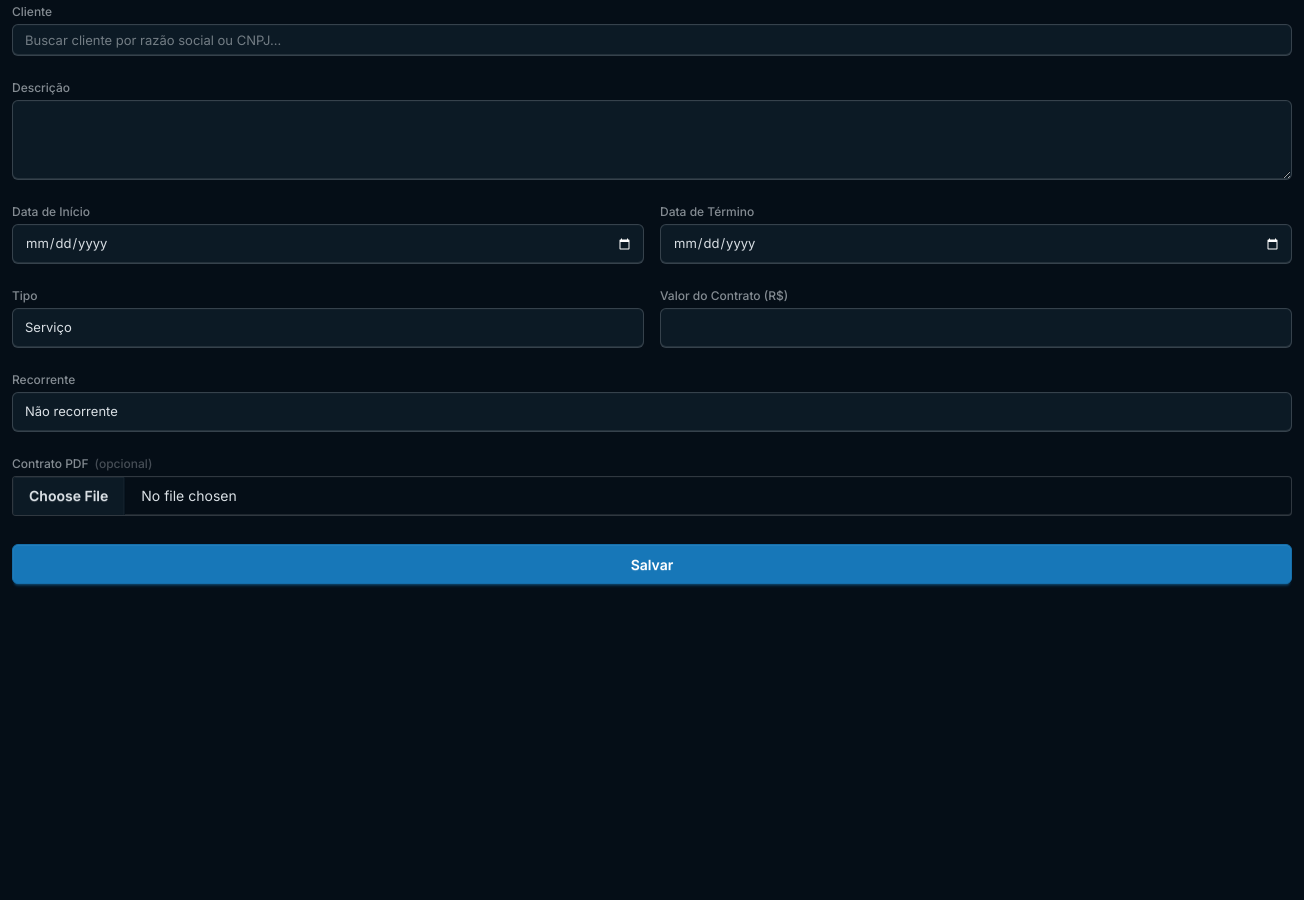
Test: exibe erros de validação ao submeter formulário vazio
Click the button "Salvar": (652, 564) [12, 544, 1292, 584]
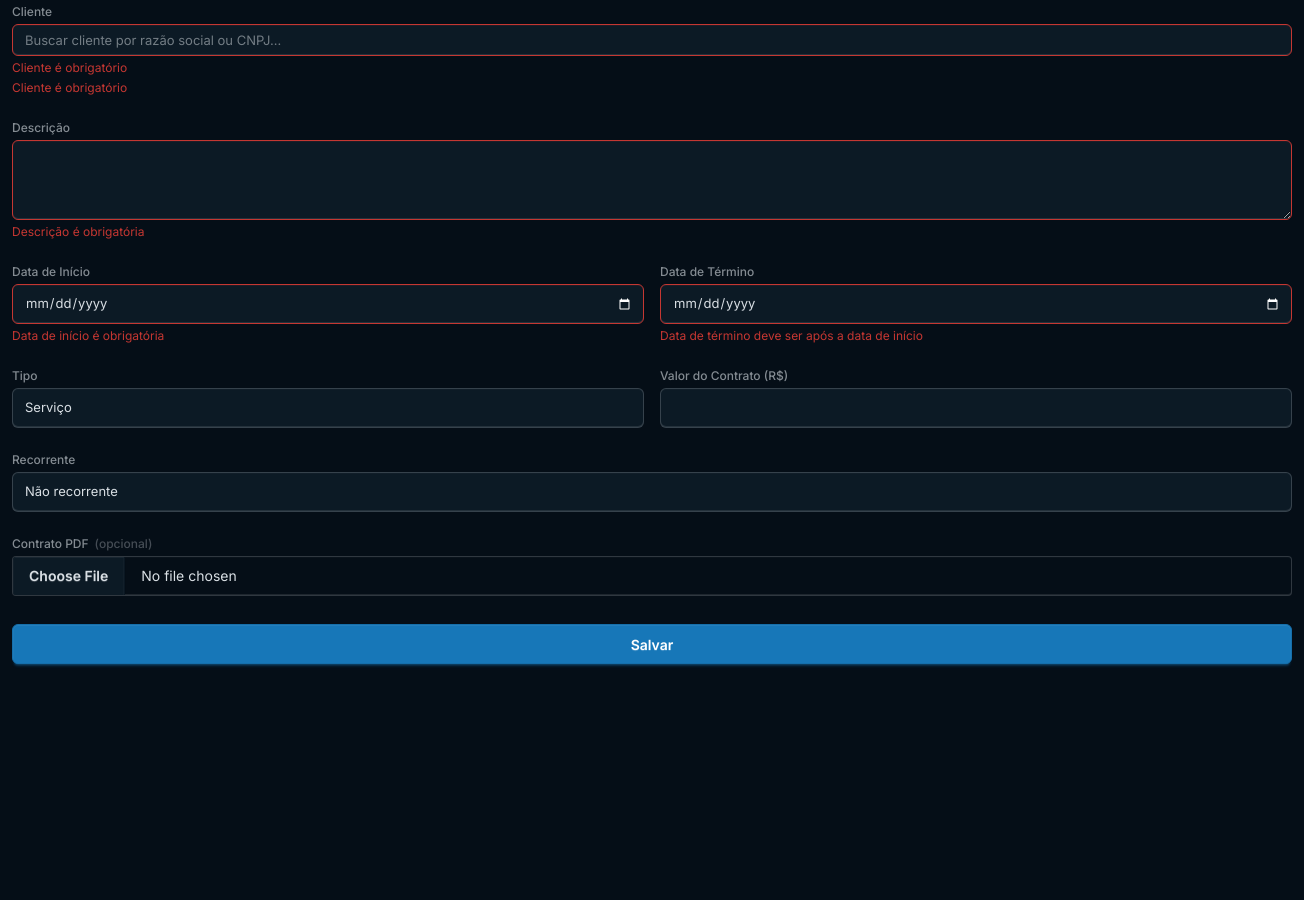
Expected: the text with test id "error-clientId" is shown, [12, 80, 127, 95]
